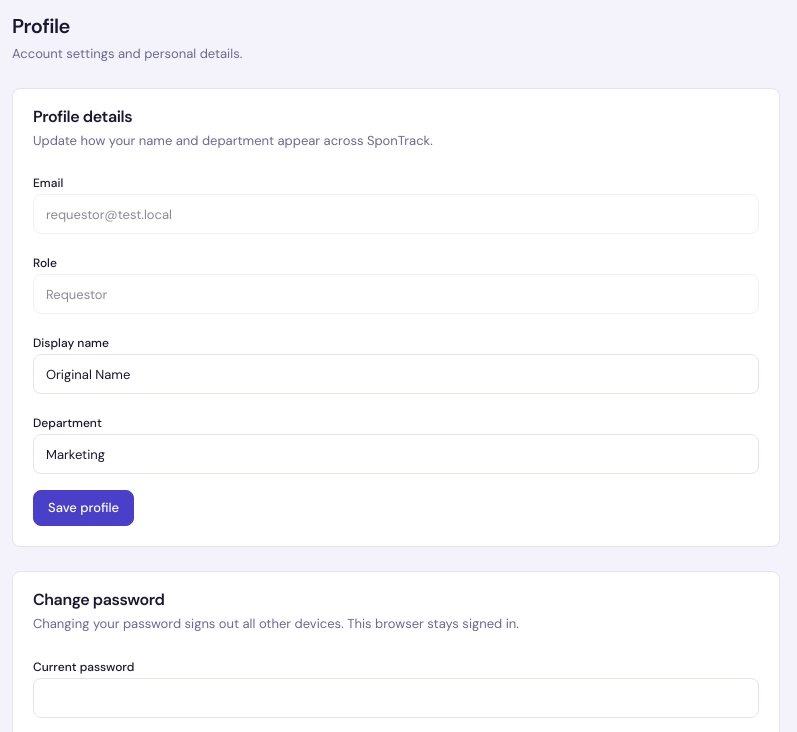
ProfilePage › submits profile updates and refreshes auth context
Replace the text in the field labelled "Display name" with "Updated Name" at (396, 374), box [33, 354, 759, 394]
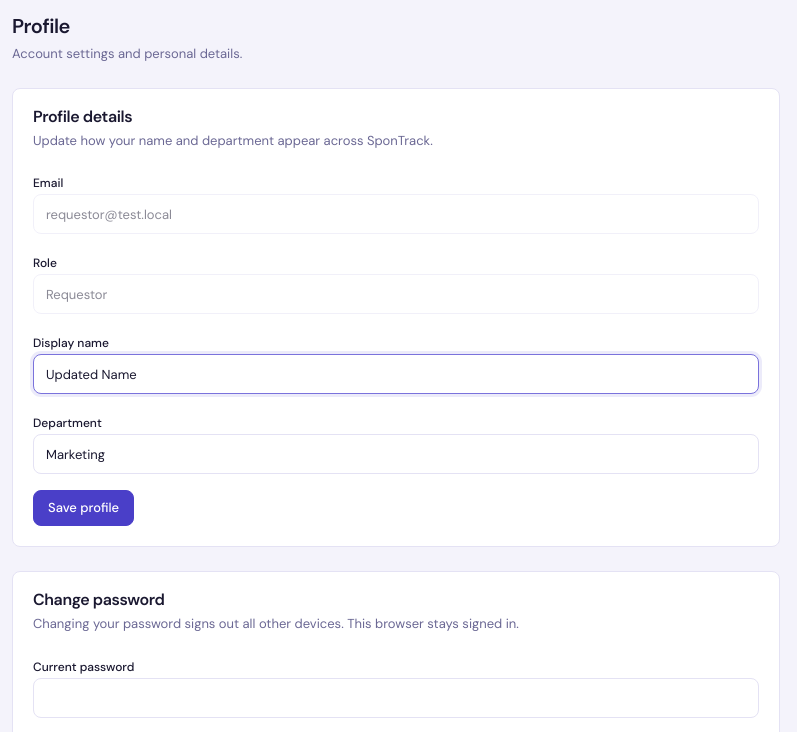
Click the button "Save profile" at (84, 508), box [33, 490, 134, 526]
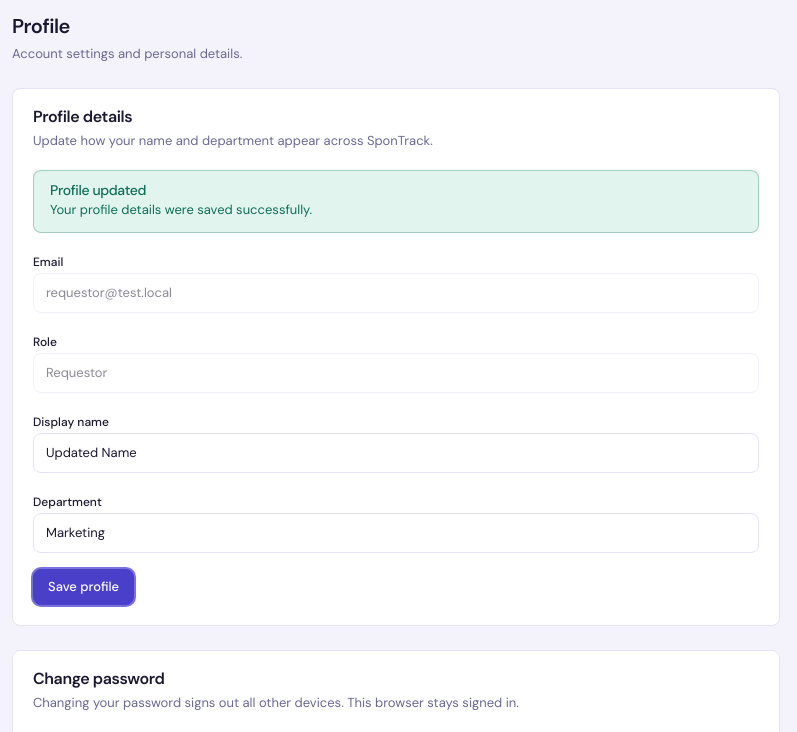
Now the heading "Profile updated" is shown, box [50, 181, 146, 199]
